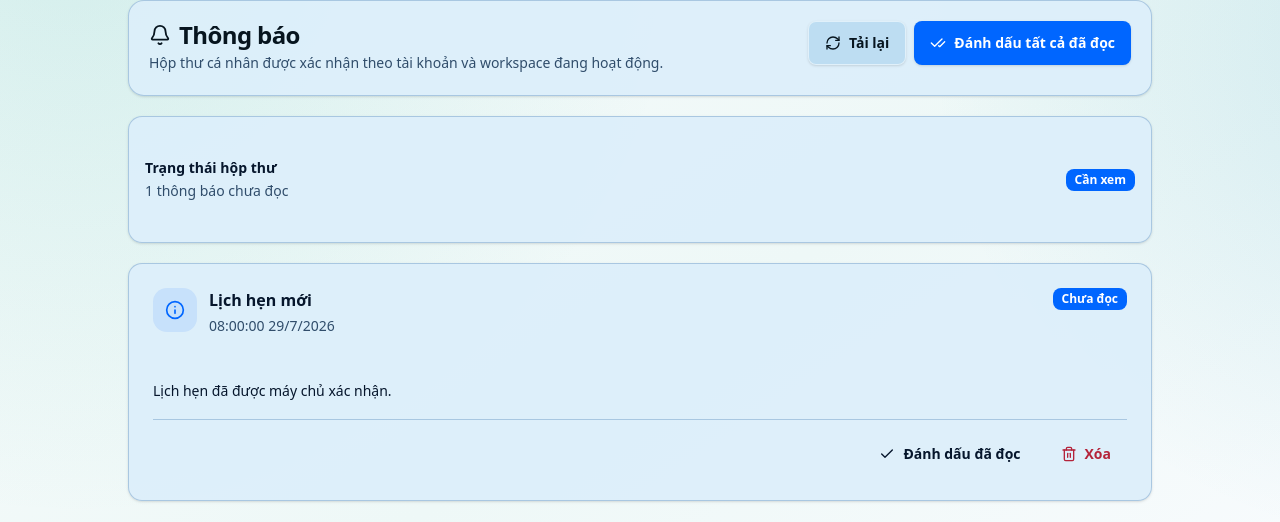
it: NotificationsPage personal inbox truth › keeps the unread state until the exact read receipt is confirmed
Check: the text "Lịch hẹn mới" is shown, box [209,288,312,312]
Click the button "Đánh dấu đã đọc". click: {"x": 950, "y": 454}
box: [863,432,1036,476]
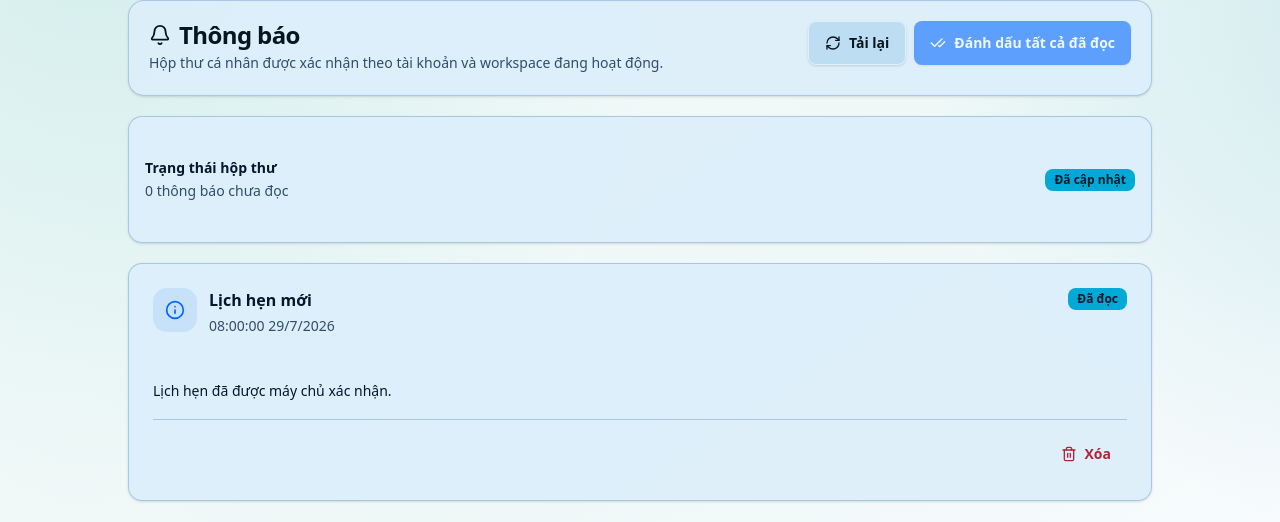
Check: the element named "Lịch hẹn mới. Đã đọc" is shown, box [128,263,1152,501]
